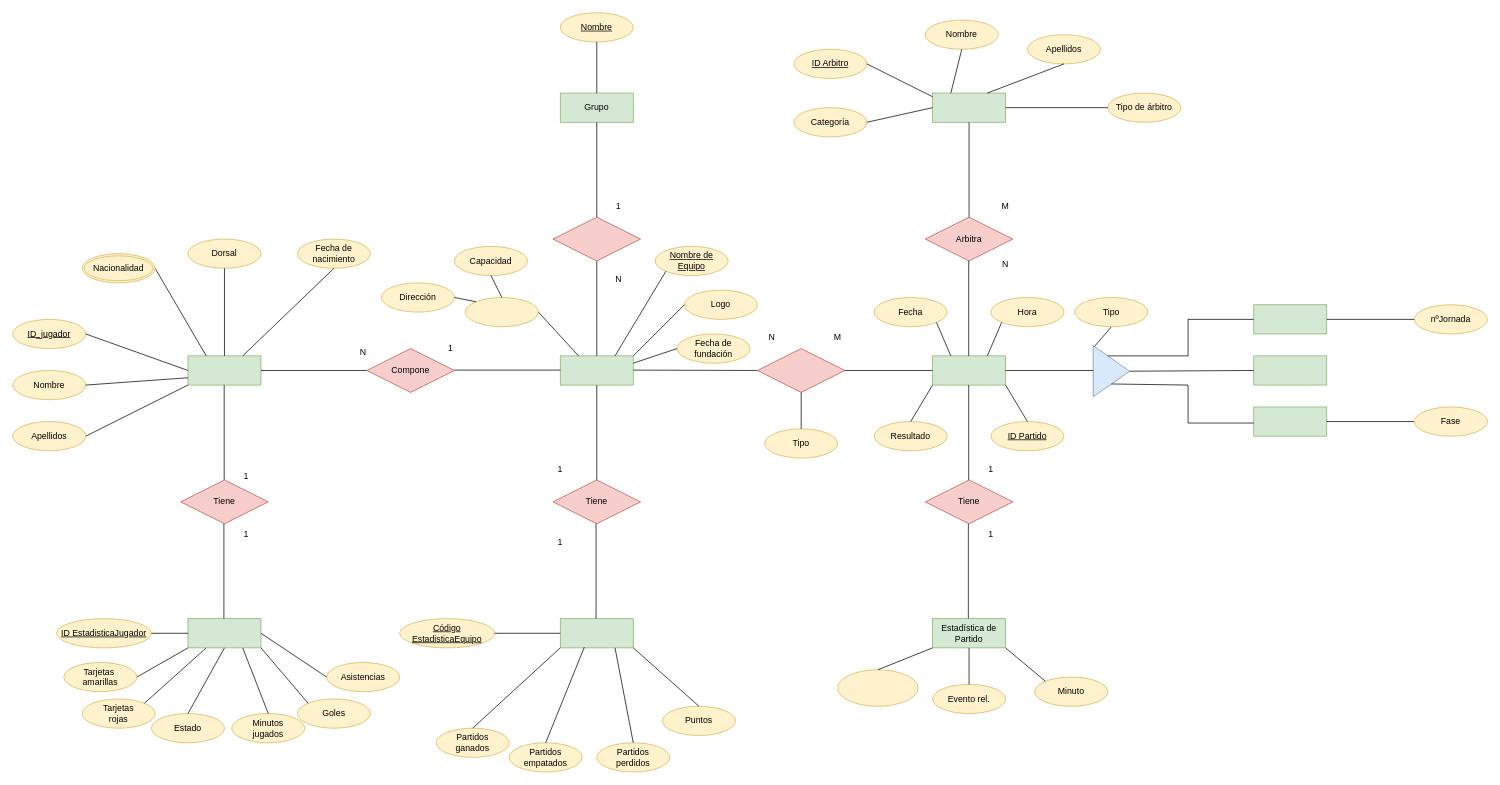
Image size: 1500x785. Some labels were removed from this diagram. The shapes that lost their labels are listed below. From the top down, each one's centre as x and y in pixels, then its label:
At (969,107): "Árbitro".
At (596,238): "Pertenece".
At (501,312): "Estadio".
At (1290,319): "Liga".
At (224,370): "Jugador".
At (596,370): "Equipo".
At (801,370): "Juega".
At (969,370): "Partido".
At (1290,370): "Copa del Rey".
At (1290,421): "Playoff".
At (224,633): "Estadísticas de jugador".
At (596,633): "Estadística de equipo".
At (877,687): "Código Estadística de Partido".
